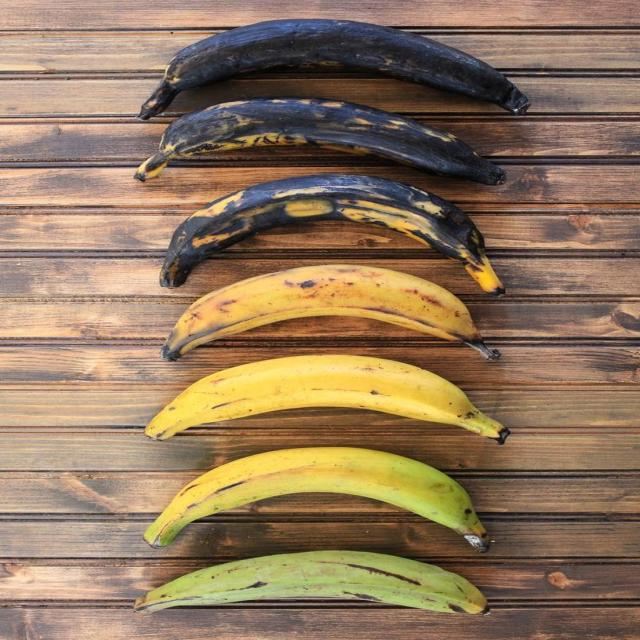unpeal banana: (160, 174, 504, 295), (139, 20, 529, 119), (144, 447, 489, 551), (145, 355, 509, 443), (135, 98, 505, 184), (162, 265, 499, 359), (134, 551, 488, 614)
